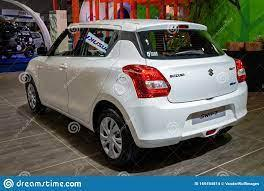Hatchback: (19, 16, 254, 169)
